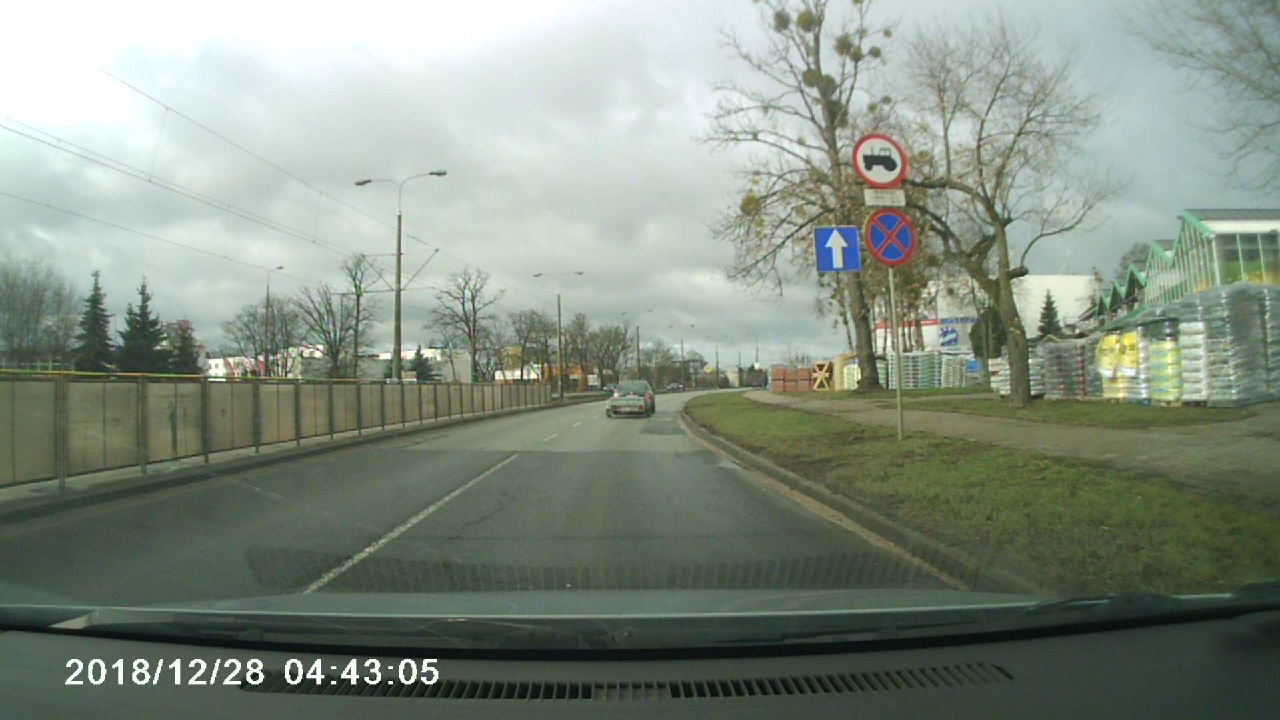B35: (862, 210, 919, 263)
D3: (814, 224, 863, 274)
